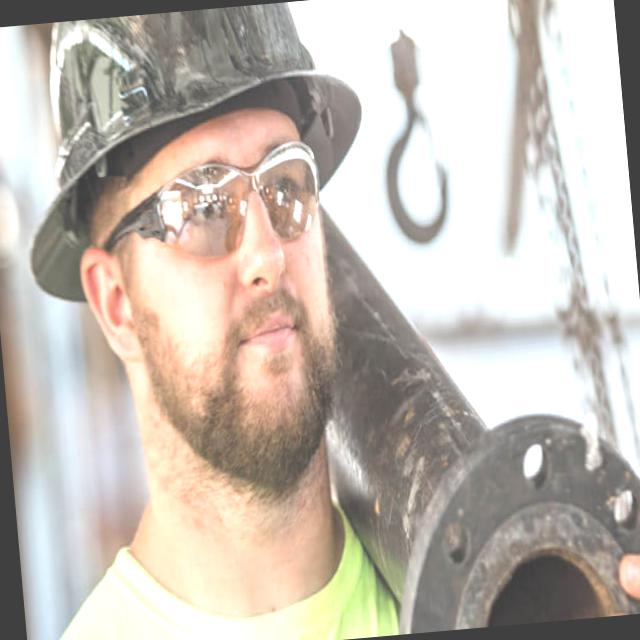goggles: (108, 148, 336, 260)
helmet: (3, 0, 372, 167)
